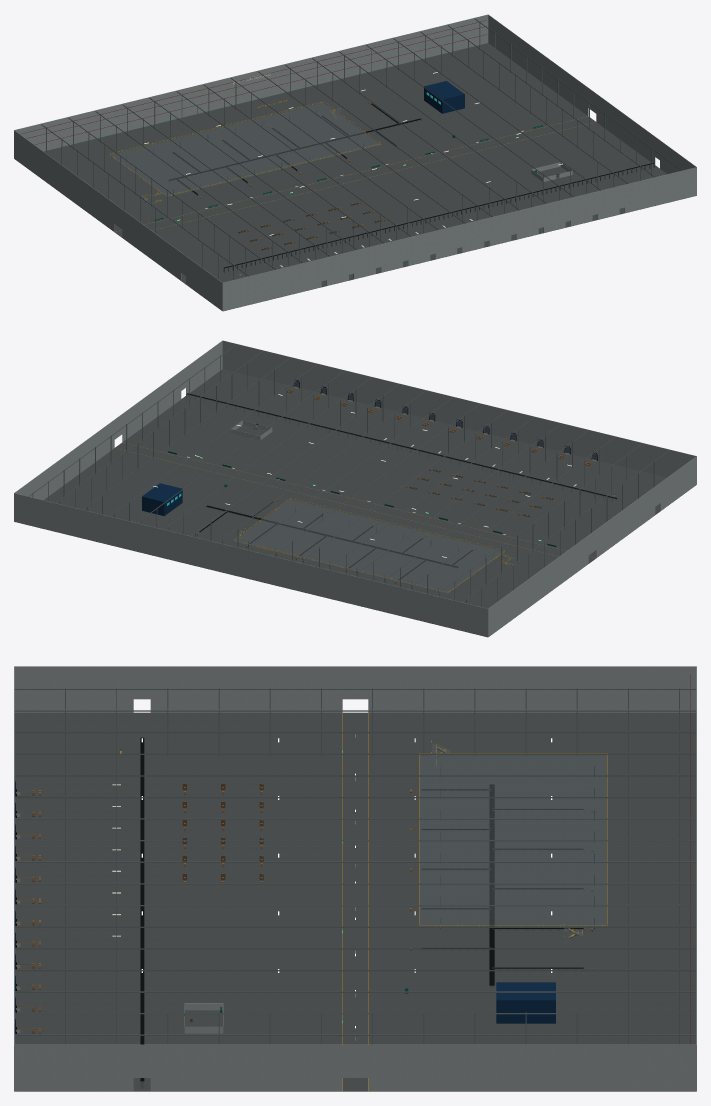
Rendered from Block_03.glb.
3 views of the same model, one above another, from view 1: azimuth 30°, elevation 25°; view 2: azimuth 150°, elevation 25°; view 3: azimuth 270°, elevation 25° (orthographic). The views are drawn at different scales.
Parts seen in each view (by area): view 1: B03-GROUND, B03-NORTH, B03-UPPER, B03-WEST2, B03-EAST2, B03-SOUTH-PIER0, B03-SOUTH-END, B03-WEST1, B03-EAST1, B03-WEST0, B03-DISPATCH, B03-TRUNK-BELT (+13 smaller); view 2: B03-GROUND, B03-NORTH, B03-UPPER, B03-WEST2, B03-EAST2, B03-SOUTH-PIER0, B03-SOUTH-END, B03-WEST1, B03-EAST1, B03-WEST0, B03-EAST0, B03-DISPATCH (+13 smaller); view 3: B03-GROUND, B03-UPPER, B03-EAST2, B03-WEST2, B03-EAST1, B03-WEST1, B03-EAST0, B03-WEST0, B03-DISPATCH, B03-TRUNK-BELT, B03-TRUSS-216, B03-TRUSS-120 (+18 smaller).
Part boxes in pixels (x1=…): B03-GROUND: x1=15, y1=43, x2=696, y2=311; B03-NORTH: x1=14, y1=14, x2=488, y2=151; B03-UPPER: x1=109, y1=102, x2=380, y2=196; B03-WEST2: x1=14, y1=130, x2=114, y2=231; B03-EAST2: x1=488, y1=14, x2=588, y2=116; B03-SOUTH-PIER0: x1=222, y1=258, x2=321, y2=310; B03-SOUTH-END: x1=624, y1=167, x2=696, y2=212; B03-WEST1: x1=122, y1=209, x2=181, y2=280; B03-EAST1: x1=596, y1=94, x2=655, y2=164; B03-WEST0: x1=186, y1=256, x2=222, y2=310; B03-DISPATCH: x1=424, y1=81, x2=464, y2=113; B03-TRUNK-BELT: x1=224, y1=162, x2=654, y2=268; B03-GROUND: x1=14, y1=369, x2=695, y2=637; B03-NORTH: x1=14, y1=493, x2=488, y2=636; B03-UPPER: x1=233, y1=499, x2=504, y2=593; B03-WEST2: x1=488, y1=535, x2=588, y2=636; B03-EAST2: x1=14, y1=420, x2=114, y2=500; B03-SOUTH-PIER0: x1=597, y1=432, x2=696, y2=477; B03-SOUTH-END: x1=222, y1=340, x2=294, y2=386; B03-WEST1: x1=596, y1=487, x2=655, y2=557; B03-EAST1: x1=122, y1=371, x2=181, y2=442; B03-WEST0: x1=660, y1=456, x2=696, y2=511; B03-EAST0: x1=186, y1=340, x2=222, y2=395; B03-DISPATCH: x1=142, y1=483, x2=182, y2=516; B03-GROUND: x1=14, y1=712, x2=696, y2=1091; B03-UPPER: x1=419, y1=755, x2=606, y2=926; B03-EAST2: x1=368, y1=1044, x2=696, y2=1091; B03-WEST2: x1=368, y1=666, x2=696, y2=712; B03-EAST1: x1=150, y1=1044, x2=342, y2=1091; B03-WEST1: x1=150, y1=666, x2=342, y2=712; B03-EAST0: x1=14, y1=1044, x2=133, y2=1091; B03-WEST0: x1=14, y1=666, x2=133, y2=712; B03-DISPATCH: x1=496, y1=982, x2=555, y2=1023; B03-TRUNK-BELT: x1=140, y1=737, x2=144, y2=1081; B03-TRUSS-216: x1=14, y1=861, x2=696, y2=862; B03-TRUSS-120: x1=14, y1=775, x2=696, y2=776.
Size of the model in its own units: 420 by 24.24 by 320.
16 materials, 16 textured.
